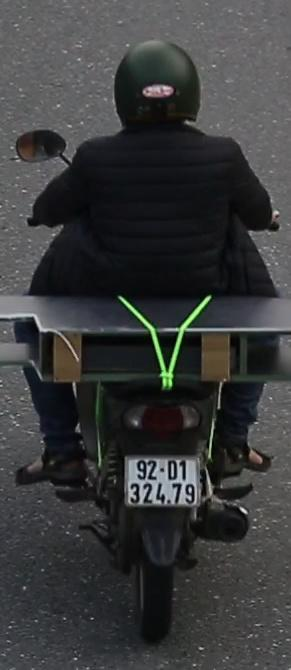LP: (119, 451, 203, 515)
helmet: (109, 34, 206, 141)
